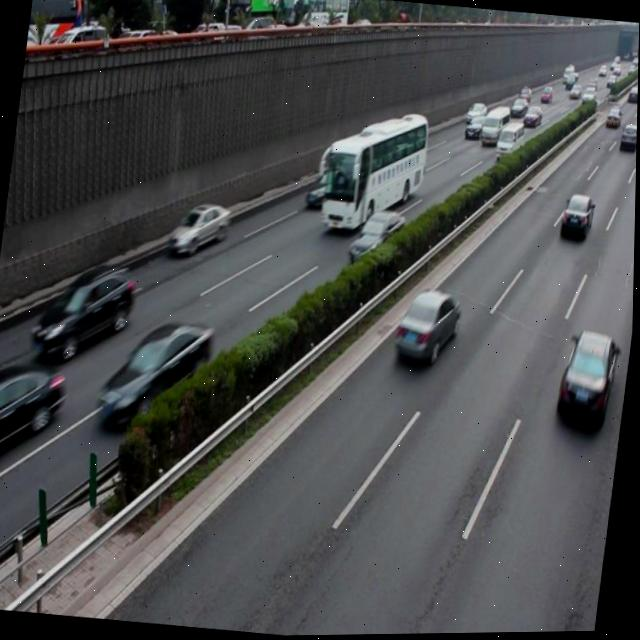car: (92, 311, 217, 436), (30, 257, 140, 363), (0, 354, 71, 466), (555, 327, 620, 428), (391, 285, 462, 368), (165, 199, 231, 261), (347, 206, 409, 267), (303, 165, 347, 212), (558, 192, 595, 244)
van: (315, 105, 431, 237)
